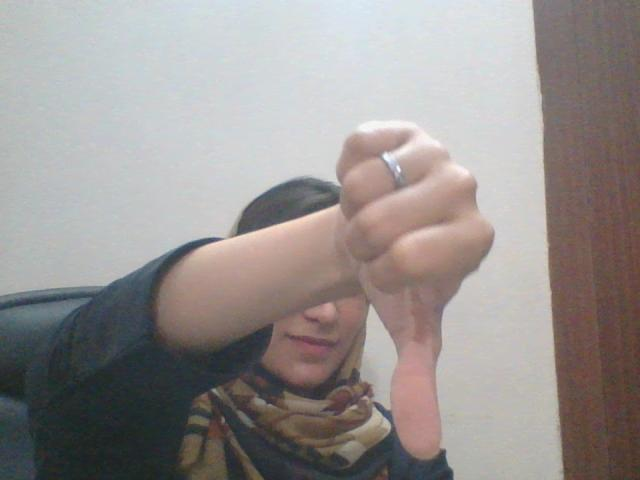thumbs-down: (341, 121, 499, 460)
